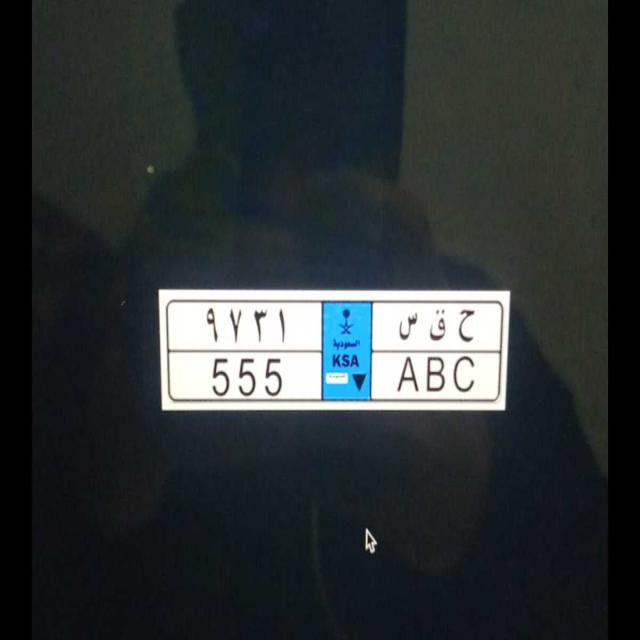license_plate: (173, 351, 493, 402)
